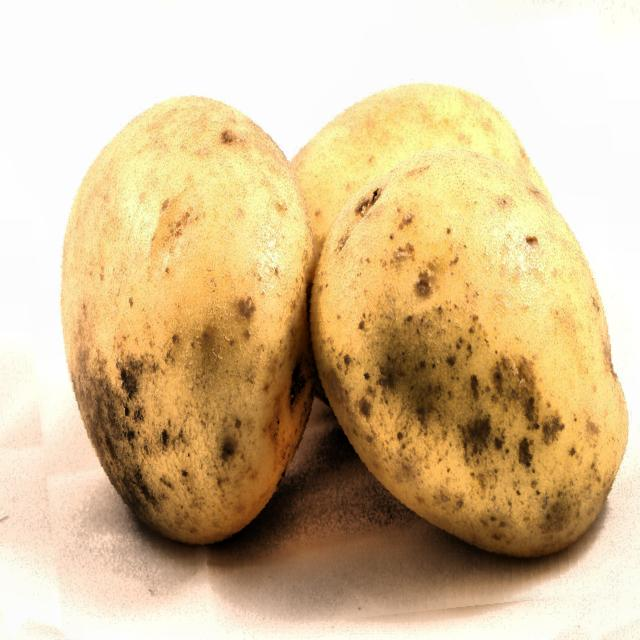potato: (17, 17, 640, 633)
